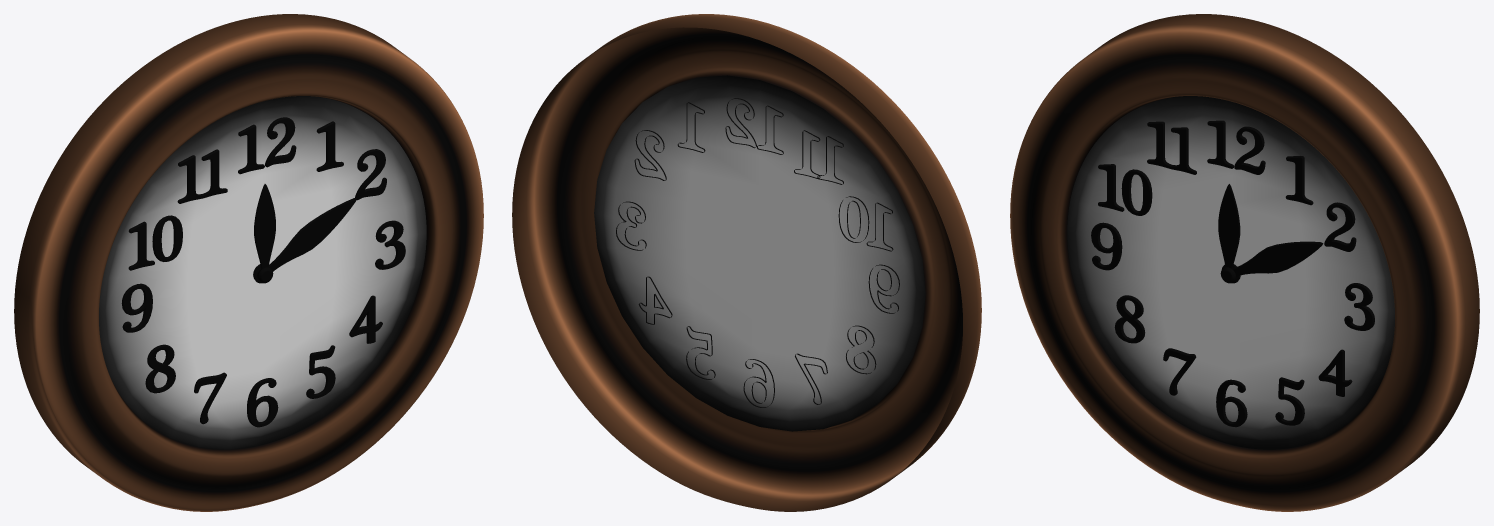
The model's file is wallClock.fbx.
3 views of the same model, side by side, from view 1: azimuth 30°, elevation 25°; view 2: azimuth 150°, elevation 25°; view 3: azimuth 330°, elevation 25° (orthographic).
Visible parts, largest first — view 1: clock_wood, background, number, bigHand, smallHand; view 2: clock_wood, background, number; view 3: clock_wood, background, number, bigHand, smallHand.
Part boxes in pixels (x1,y1,x2,y2): clock_wood: (14,14,483,511); background: (99,96,426,449); number: (121,117,405,427); bigHand: (268,197,357,271); smallHand: (254,184,275,268); clock_wood: (512,14,981,511); background: (594,75,925,431); number: (616,98,899,407); clock_wood: (1010,14,1479,511); background: (1067,96,1394,449); number: (1091,120,1374,427); bigHand: (1232,241,1323,276); smallHand: (1218,184,1240,268).
Size of the model in its own units: 34.35 by 34.28 by 3.7.
